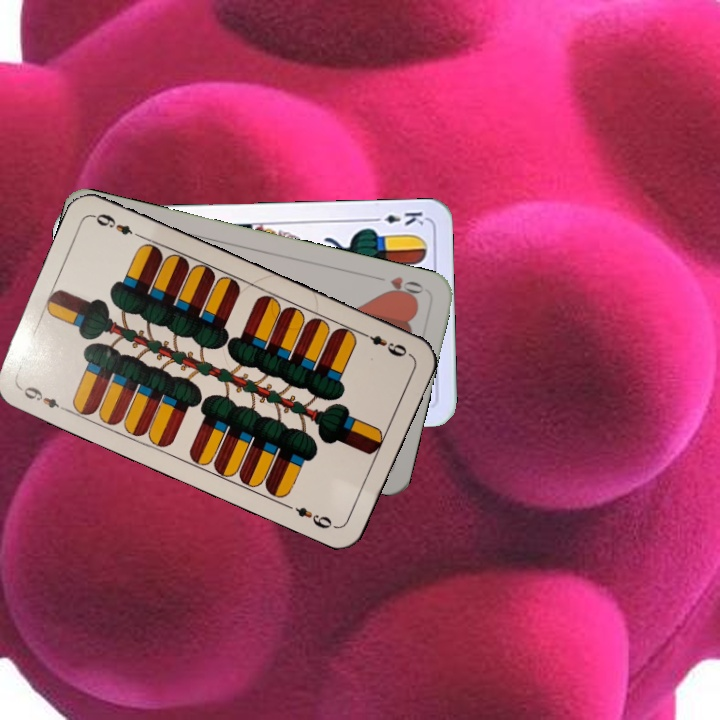E9: (356, 327, 413, 360), (15, 382, 71, 415)
EK: (367, 207, 426, 229)
HO: (380, 272, 426, 302)
